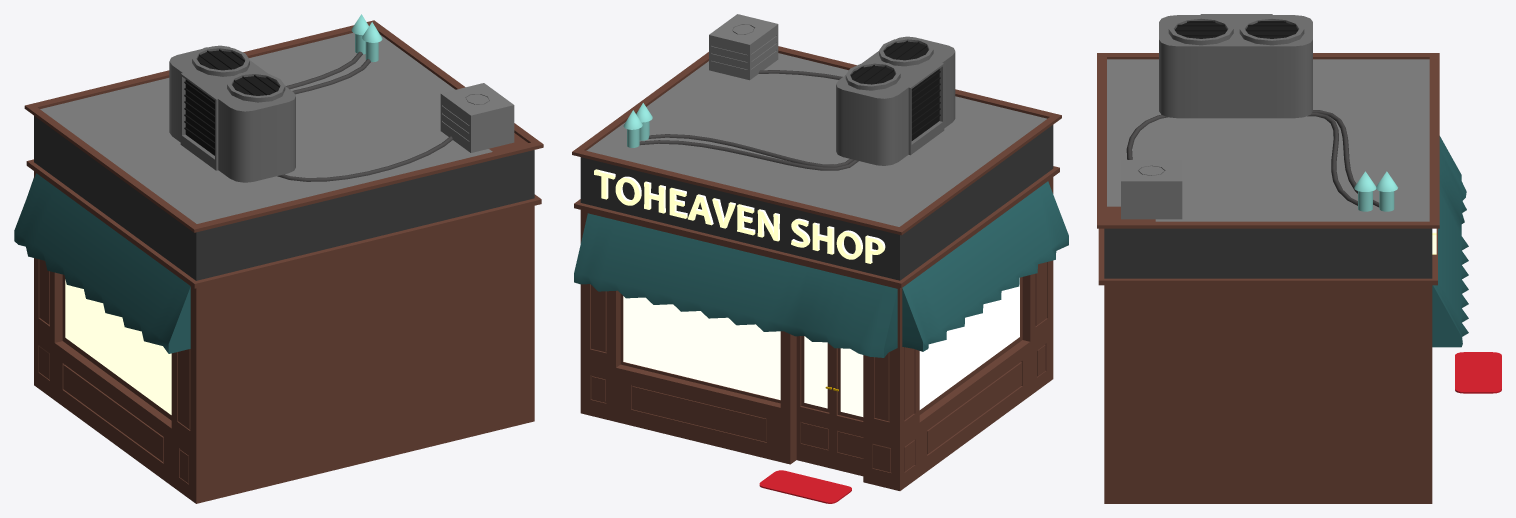
File: toheavenshop.glb
The picture shows the model from 3 angles, left to right: view 1: azimuth 30°, elevation 25°; view 2: azimuth 150°, elevation 25°; view 3: azimuth 270°, elevation 25°; orthographic projection. The views are drawn at different scales.
Parts seen in each view (by area): view 1: Cube_43.001; view 2: Cube_43.001, Text.001; view 3: Cube_43.001.
Boxes of the visible parts, box(x1,y1,x2,y2) form: Cube_43.001: box(14, 14, 543, 503); Cube_43.001: box(572, 14, 1068, 503); Text.001: box(594, 169, 885, 263); Cube_43.001: box(1097, 14, 1501, 503).
Size of the model in its own units: 1.51 by 1.39 by 1.41.
